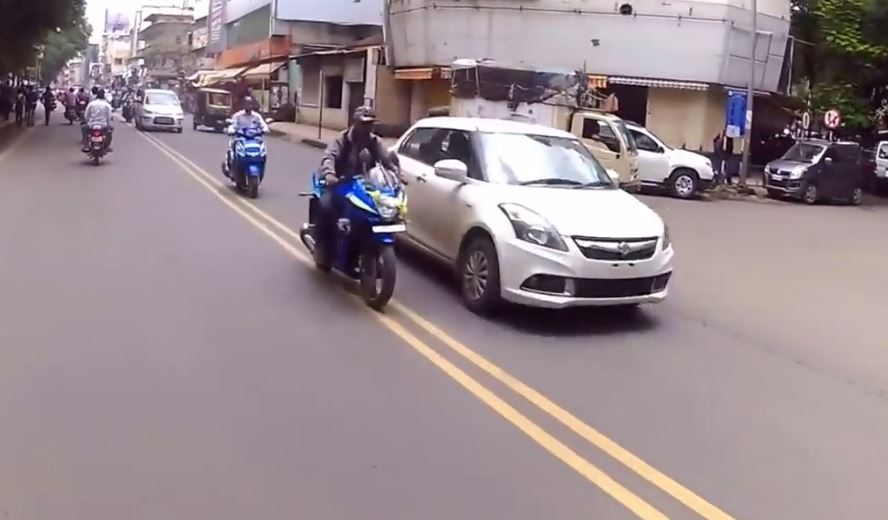autorickshaw: (191, 85, 237, 141)
car: (395, 104, 685, 315), (625, 112, 726, 209), (761, 125, 866, 215), (131, 83, 190, 145)
